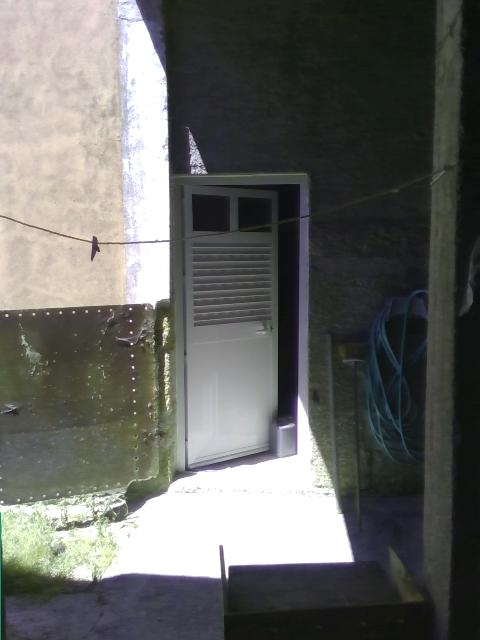semi_door: (171, 171, 309, 473)
